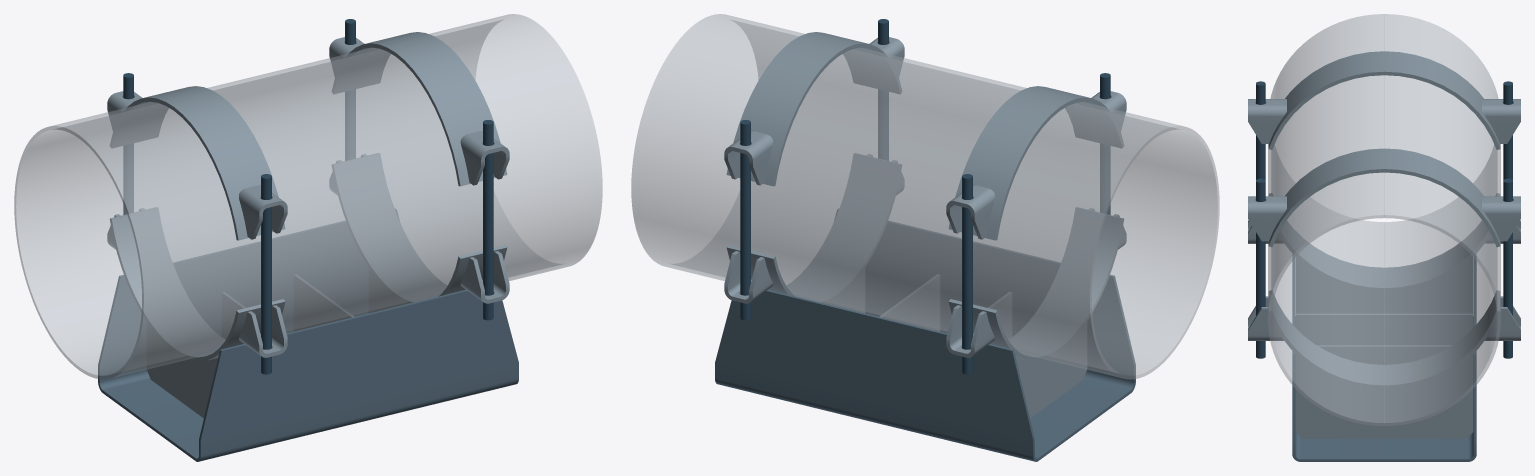
Rendered from TS-627.00.000-055-opora-dn480-H150-L680.glb.
3 renders of one model, left to right at view 1: azimuth 30°, elevation 25°; view 2: azimuth 150°, elevation 25°; view 3: azimuth 270°, elevation 25°, orthographic. The views are drawn at different scales.
Visible parts, largest first — view 1: truba, skoba_0, podushka_5, podushka_6, bugel1_podushka_0, bugel0_podushka_0, rebro4_1, shpilka_1_-1, shpilka_0_-1, rebro5_4, bugel1_ushko_2, bugel0_ushko_2 (+5 smaller); view 2: truba, skoba_0, podushka_5, podushka_6, bugel1_podushka_0, bugel0_podushka_0, rebro4_1, shpilka_1_1, shpilka_0_1, rebro5_4, bugel1_ushko_1, bugel0_ushko_1 (+5 smaller); view 3: truba, rebro4_2, rebro4_1, podushka_6, skoba_0, rebro5_3, bugel0_podushka_0, bugel1_podushka_0, podushka_5, rebro5_4, bugel1_ushko_1, bugel1_ushko_2 (+8 smaller).
Part boxes in pixels (x1,y1,x2,y2): truba: (14, 14, 602, 379); skoba_0: (98, 209, 518, 461); podushka_5: (110, 207, 285, 361); podushka_6: (332, 153, 507, 303); bugel1_podushka_0: (332, 32, 507, 186); bugel0_podushka_0: (110, 86, 285, 240); rebro4_1: (146, 323, 217, 418); shpilka_1_-1: (483, 120, 493, 320); shpilka_0_-1: (261, 174, 271, 374); rebro5_4: (293, 274, 354, 331); bugel1_ushko_2: (460, 131, 509, 185); bugel0_ushko_2: (239, 185, 287, 239); truba: (631, 14, 1219, 379); skoba_0: (715, 209, 1135, 461); podushka_5: (948, 207, 1123, 361); podushka_6: (726, 153, 901, 303); bugel1_podushka_0: (726, 32, 901, 186); bugel0_podushka_0: (948, 86, 1123, 240); rebro4_1: (1016, 323, 1087, 418); shpilka_1_1: (740, 120, 750, 320); shpilka_0_1: (962, 174, 972, 374); rebro5_4: (879, 274, 940, 331); bugel1_ushko_1: (724, 131, 773, 185); bugel0_ushko_1: (946, 185, 994, 239); truba: (1268, 14, 1500, 426); rebro4_2: (1295, 354, 1473, 438); rebro4_1: (1295, 257, 1473, 327); podushka_6: (1268, 290, 1500, 388); skoba_0: (1292, 254, 1476, 461); rebro5_3: (1296, 313, 1472, 345); bugel0_podushka_0: (1268, 51, 1500, 149); bugel1_podushka_0: (1268, 148, 1500, 247); podushka_5: (1268, 193, 1500, 291); rebro5_4: (1317, 345, 1451, 364); bugel1_ushko_1: (1482, 196, 1520, 241); bugel1_ushko_2: (1248, 196, 1286, 241).
Size of the model in its own units: 980 by 641 by 562.
